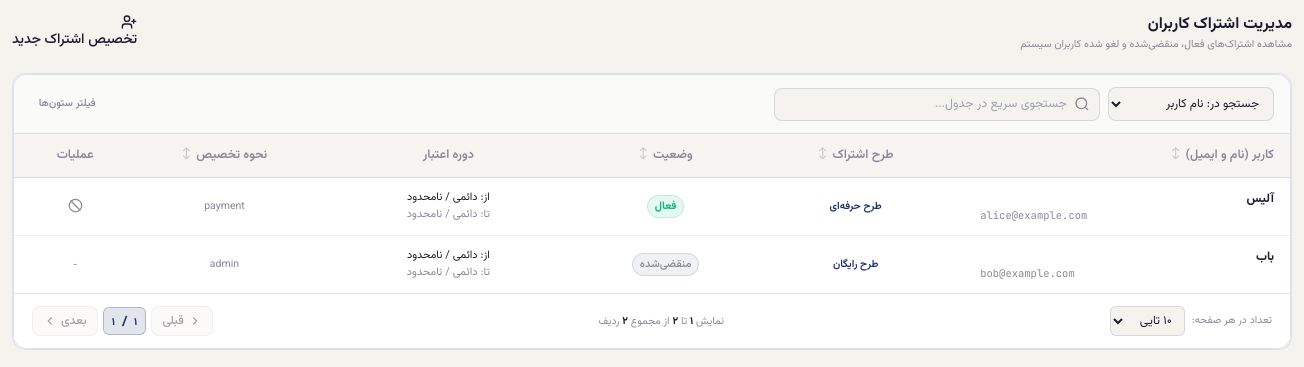
Test: AdminSubscriptionsSection search › searches subscriptions by nested user and plan fields
Select "جستجو در: ایمیل کاربر" in the dropdown with class "search-field-select": point(1191, 104) [1108,87,1274,121]
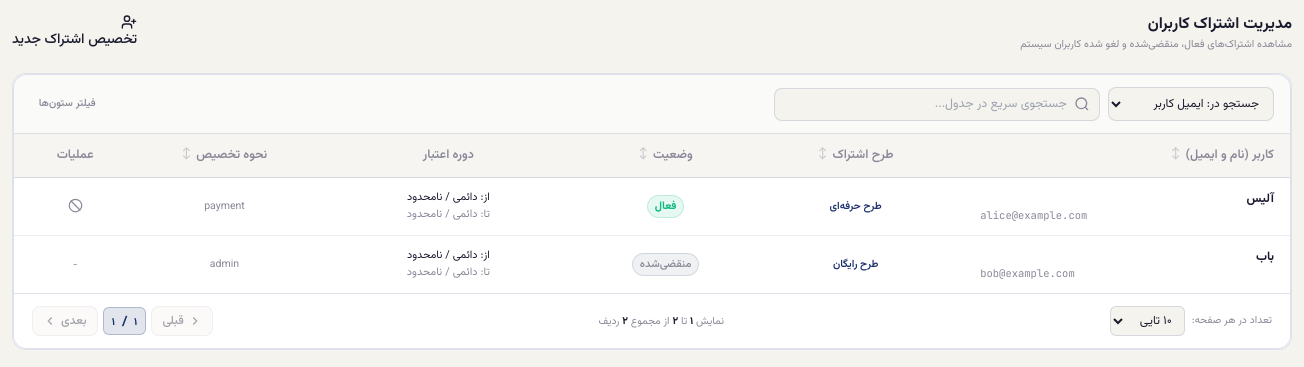
In the field with class "search-text-input": point(937, 104) [774,88,1100,121], type "alice"
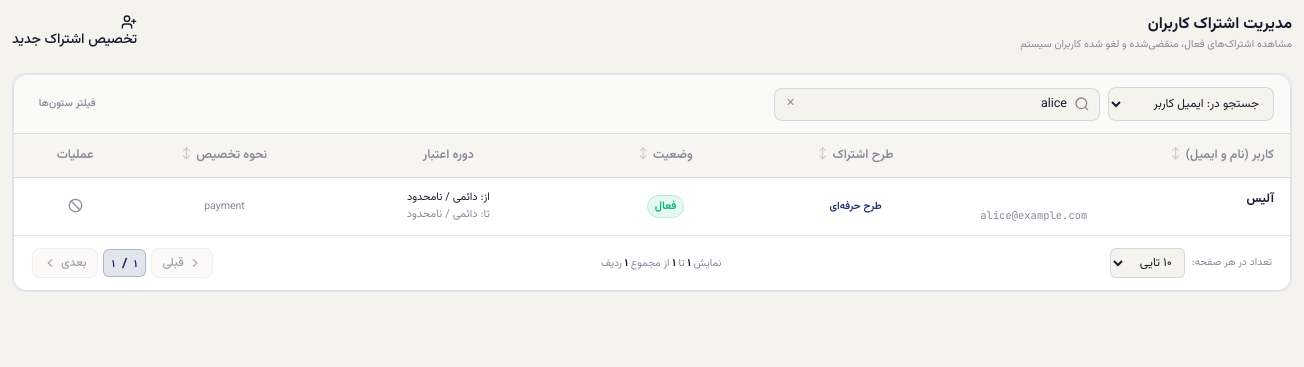
Expected: the text "alice@example.com" is shown, [980,208,1087,222]
Now the number of rows with class "table-row" is 1, box [14,178,1290,235]
Now the text "bob@example.com" is gone
